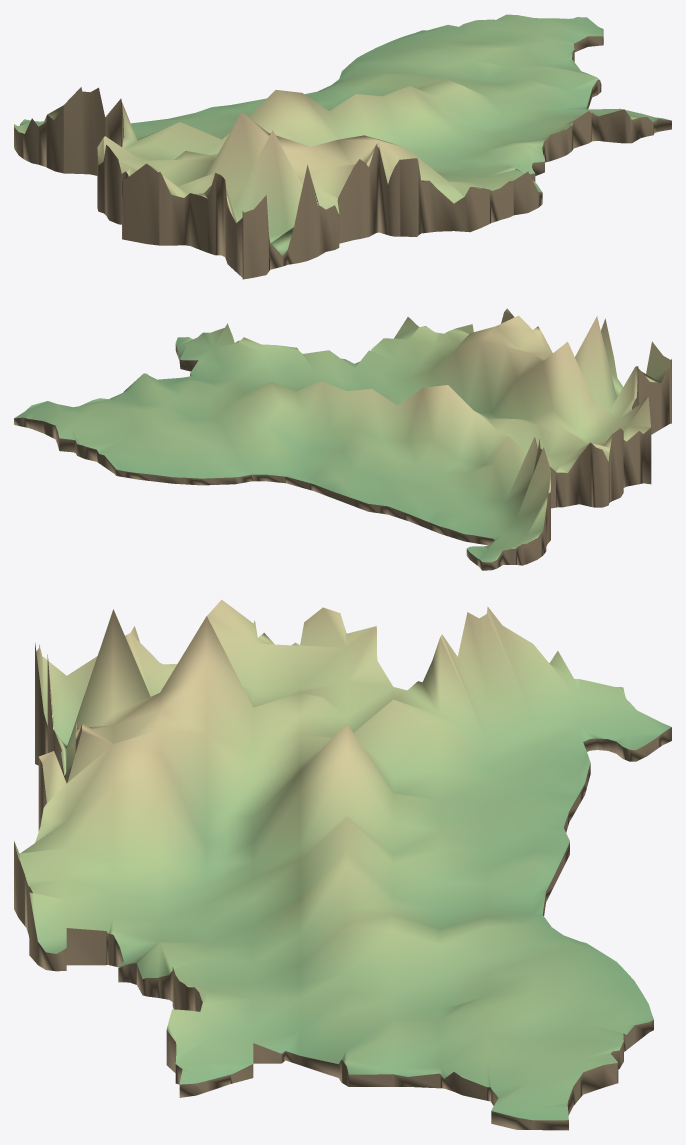
File: BGR.glb
3 renders of one model, top to bottom at view 1: azimuth 30°, elevation 25°; view 2: azimuth 150°, elevation 25°; view 3: azimuth 270°, elevation 25°, orthographic. The views are drawn at different scales.
Visible parts, largest first — view 1: BGR; view 2: BGR; view 3: BGR.
Part boxes in pixels (x1,y1,x2,y2): BGR: (14, 14, 671, 279); BGR: (14, 308, 671, 570); BGR: (14, 599, 671, 1130).
Size of the model in its own units: 1.7 by 0.338 by 1.13.
